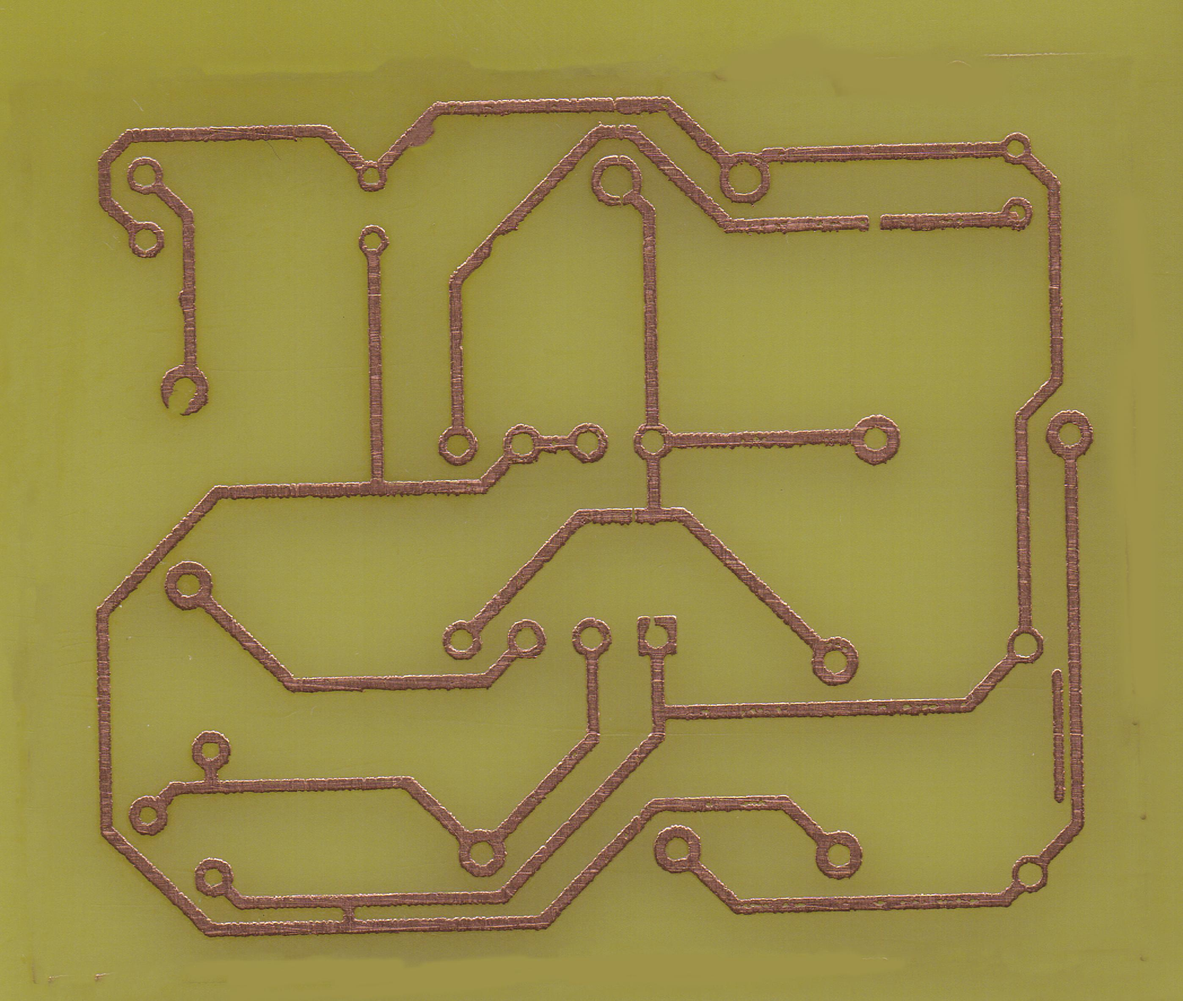missing_hole: (160, 367, 210, 422), (632, 609, 679, 655)
mouse_bite: (484, 220, 514, 260)
open_circuit: (848, 206, 905, 237)
short: (331, 895, 369, 935)
spur: (400, 117, 438, 153), (175, 285, 198, 312)
spurious_copper: (1050, 666, 1068, 807)
